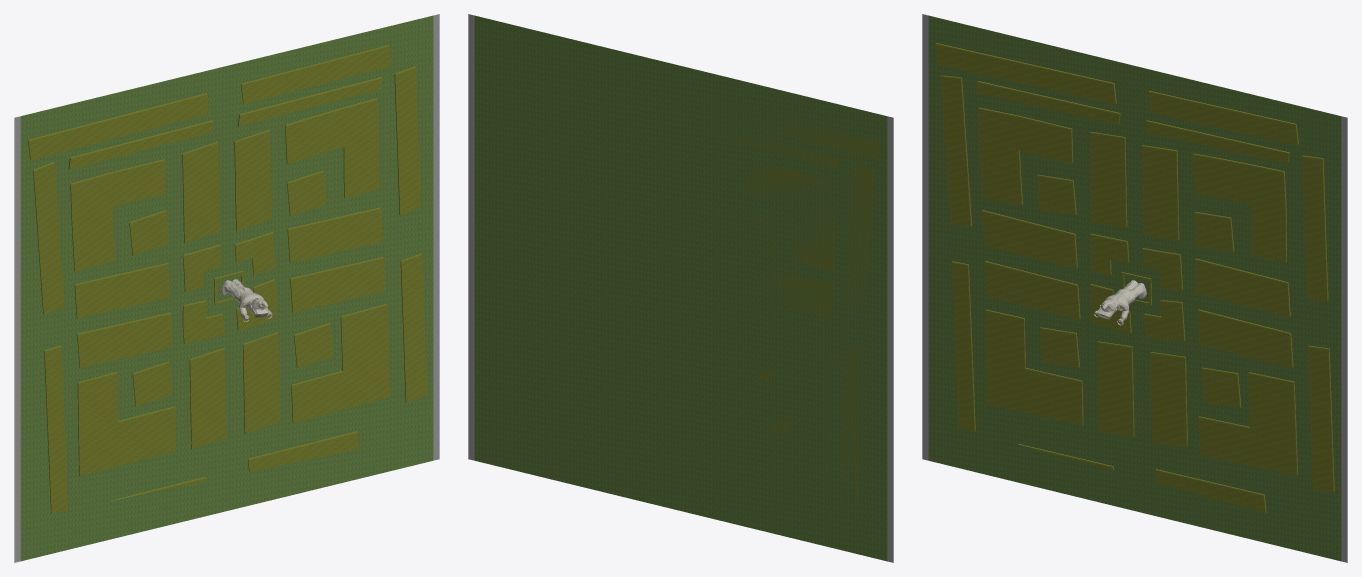
The model's file is jardin1.obj.
3 renders of one model, left to right at view 1: azimuth 30°, elevation 25°; view 2: azimuth 150°, elevation 25°; view 3: azimuth 330°, elevation 25°, orthographic.
Visible parts, largest first — view 1: Object.1; view 2: Object.1; view 3: Object.1.
Boxes of the visible parts, x1=… form: Object.1: x1=14, y1=14, x2=439, y2=562; Object.1: x1=468, y1=14, x2=893, y2=562; Object.1: x1=922, y1=14, x2=1347, y2=562.
Bounding box in the file's own units: 34629 × 34644 × 5098.
4 materials, 2 textured.
